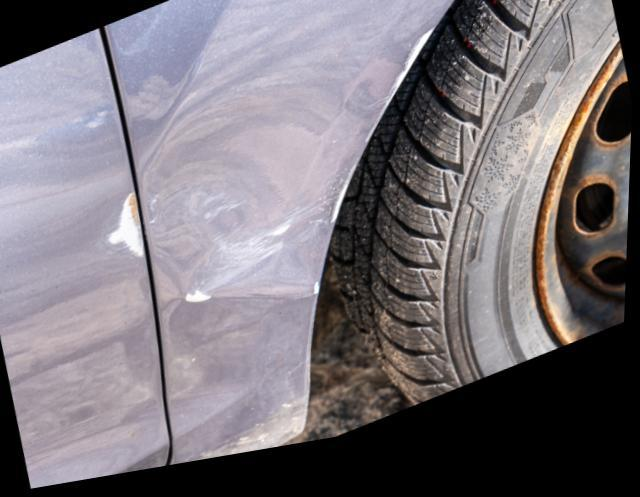dent: (140, 11, 435, 308)
scratch: (100, 195, 148, 261)
